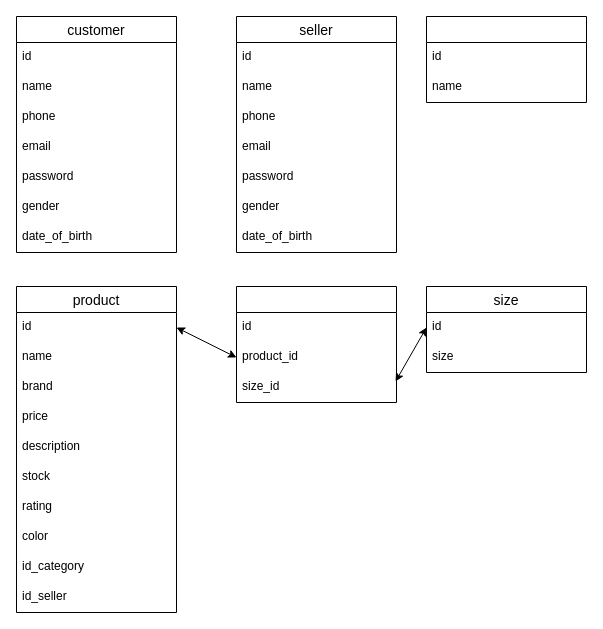
The diagram is 603 pixels wide and 629 high, and some of its shapes have lost their labels. Here are the shapes that lost their labels. From the top down, the box of each, then its label:
(426, 16, 586, 102): category
(236, 286, 396, 402): product_size
